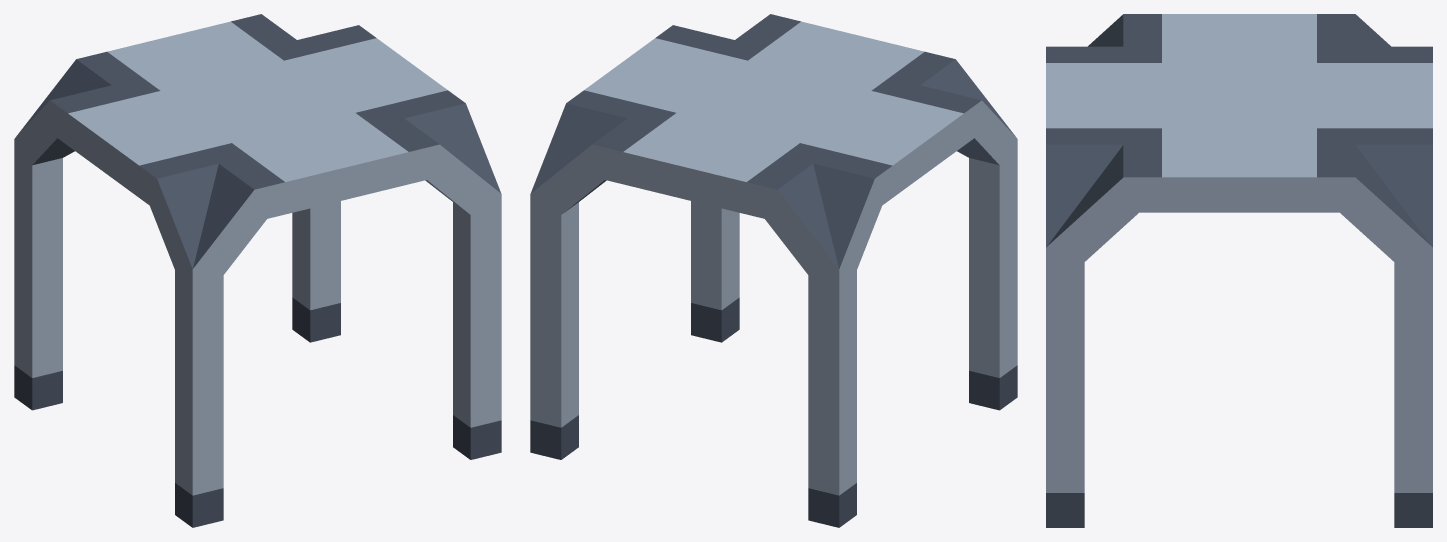
Rendered from corridor_cross.glb.
3 views of the same model, side by side, from view 1: azimuth 30°, elevation 25°; view 2: azimuth 150°, elevation 25°; view 3: azimuth 270°, elevation 25° (orthographic). The views are drawn at different scales.
Parts seen in each view (by area): view 1: corridor_cross; view 2: corridor_cross; view 3: corridor_cross.
Part boxes in pixels (box(x1,y1,x2,y2)): corridor_cross: box(14, 14, 501, 527); corridor_cross: box(530, 14, 1017, 527); corridor_cross: box(1046, 14, 1432, 527).
Size of the model in its own units: 1 by 1 by 1.
